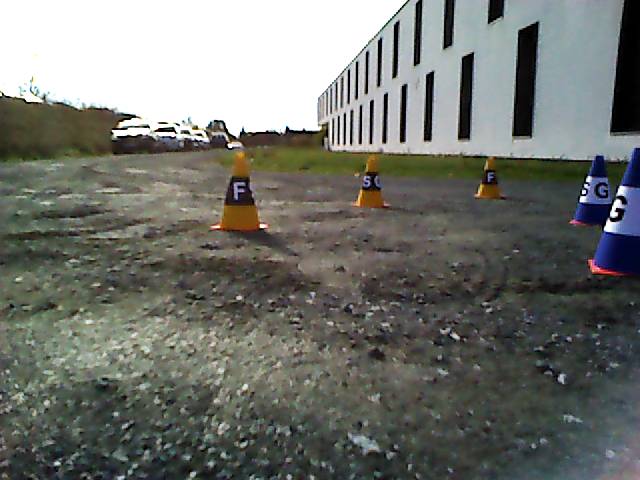bluecone: (597, 147, 640, 267), (578, 156, 612, 222)
yellowcone: (222, 153, 258, 226), (358, 157, 384, 204), (478, 156, 502, 194)
